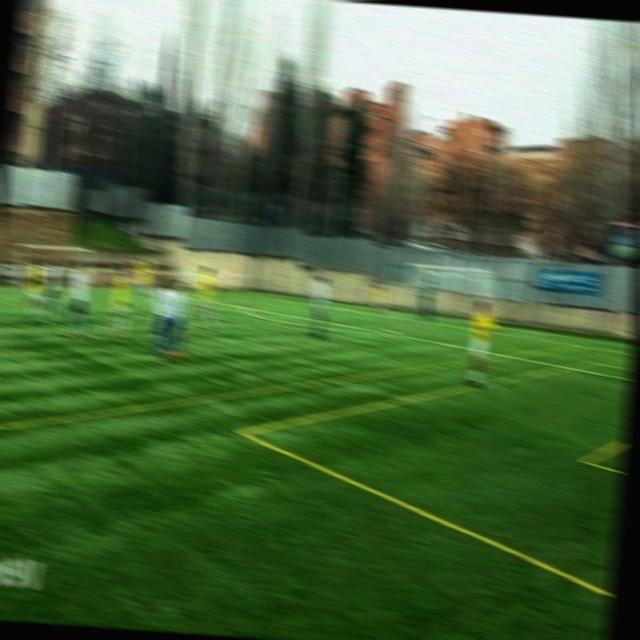bigarea_bottom_inner: (620, 371, 631, 386)
bigarea_top_outter: (267, 290, 283, 298)
bottom_arc_area_intersection: (383, 326, 401, 344)
corner: (246, 286, 256, 294)
smallarea_bottom_inner: (504, 327, 521, 344)
smallarea_bottom_outter: (536, 326, 549, 336)
smallarea_top_outter: (352, 299, 368, 313)
top_arc_area_intersection: (237, 298, 255, 315)
